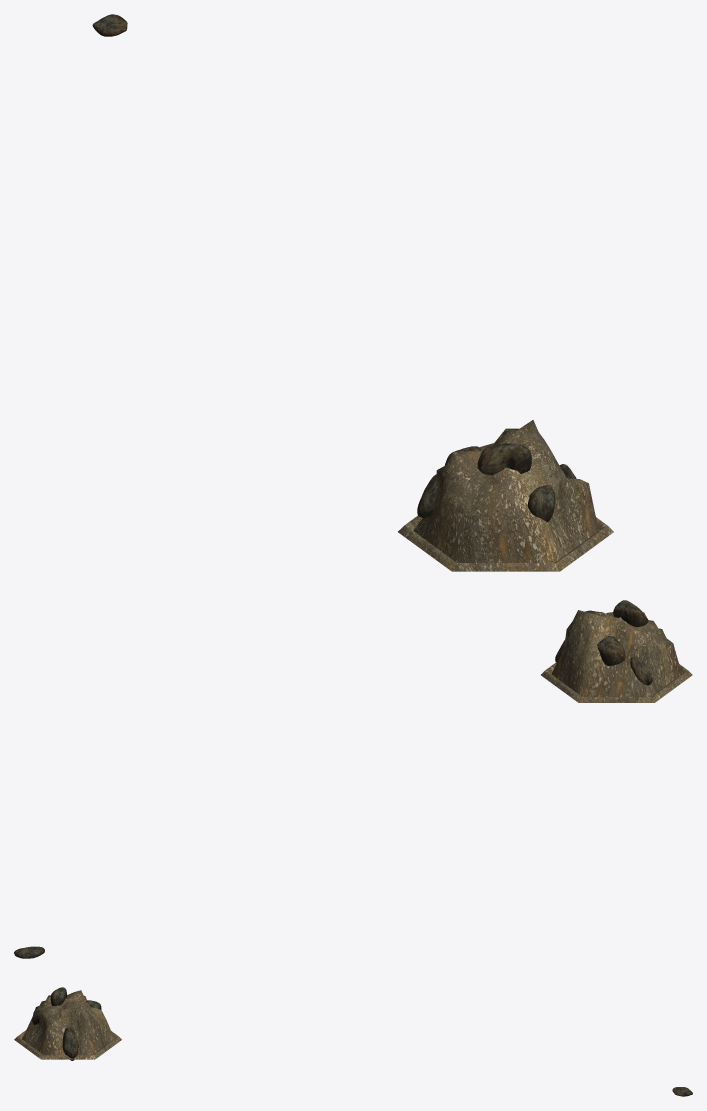
The model's file is dusty-hills.glb.
3 renders of one model, top to bottom at view 1: azimuth 30°, elevation 25°; view 2: azimuth 150°, elevation 25°; view 3: azimuth 270°, elevation 25°, orthographic. The views are drawn at different scales.
Parts seen in each view (by area): view 1: HexagonTile.009, small_rock_03.002; view 2: HexagonTile.009, small_rock_03.004, small_rock_03.002; view 3: HexagonTile.009, small_rock_03.007, small_rock_03.002.
Boxes of the visible parts, box(x1,y1,x2,y2) form: HexagonTile.009: box(398, 420, 613, 571); small_rock_03.002: box(477, 443, 531, 475); HexagonTile.009: box(541, 610, 692, 702); small_rock_03.004: box(597, 635, 625, 665); small_rock_03.002: box(613, 600, 648, 626); HexagonTile.009: box(14, 990, 121, 1059); small_rock_03.007: box(62, 1027, 78, 1060); small_rock_03.002: box(50, 987, 66, 1005).
Bounding box in the file's own units: 3.39 × 1.04 × 12.54.
2 materials, 2 textured.
